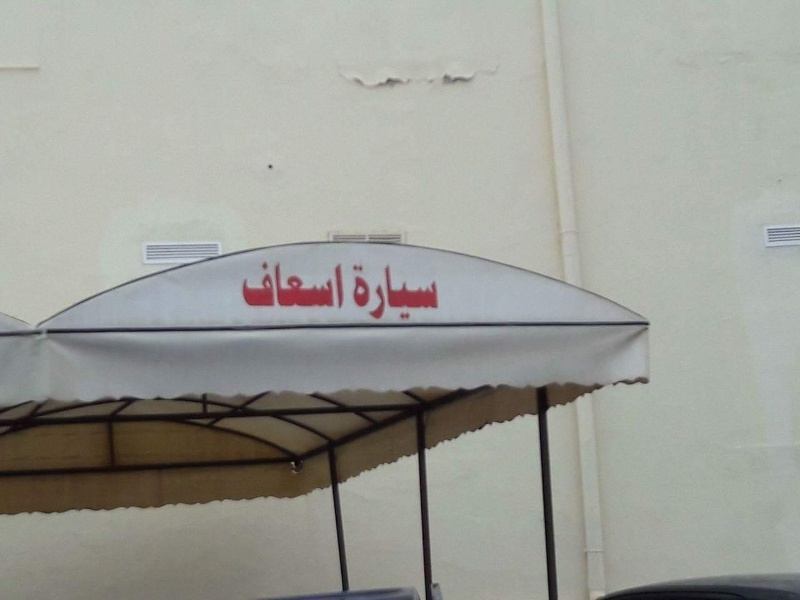text: (353, 263, 368, 322), (369, 263, 384, 322), (385, 263, 400, 322), (401, 263, 416, 322), (417, 263, 432, 322), (257, 259, 272, 311), (273, 259, 288, 311), (289, 259, 304, 311), (305, 259, 320, 311), (321, 259, 336, 311), (242, 259, 256, 311), (337, 259, 347, 311), (433, 263, 440, 322), (351, 263, 352, 322)
